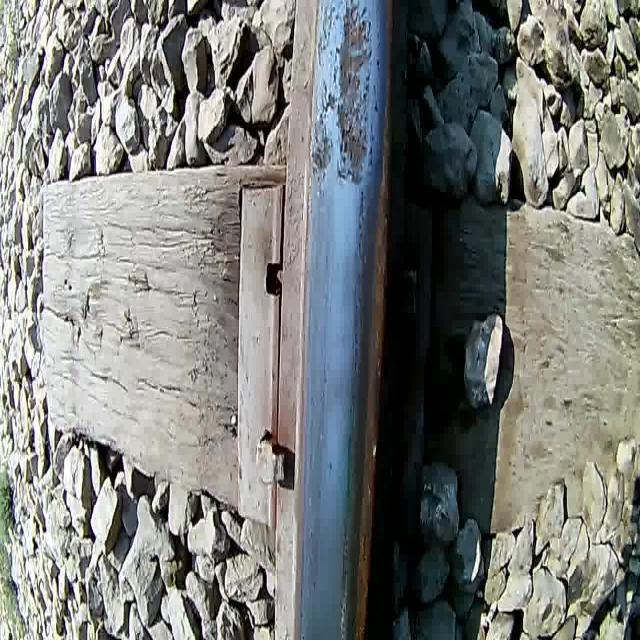Cracks: (315, 0, 336, 74), (318, 76, 329, 146)
Spallings: (336, 0, 382, 191), (308, 136, 334, 180)
Squats: (306, 0, 385, 228), (355, 182, 369, 270)
